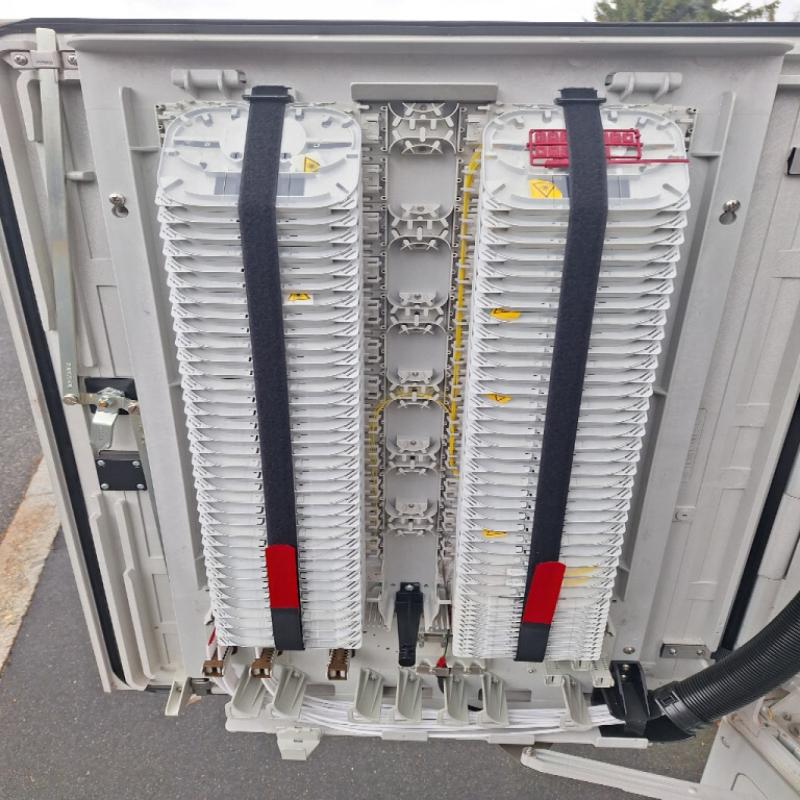NT-Gehause: (2, 17, 800, 800)
Spleiskassetten: (438, 81, 717, 671), (140, 86, 392, 669)
